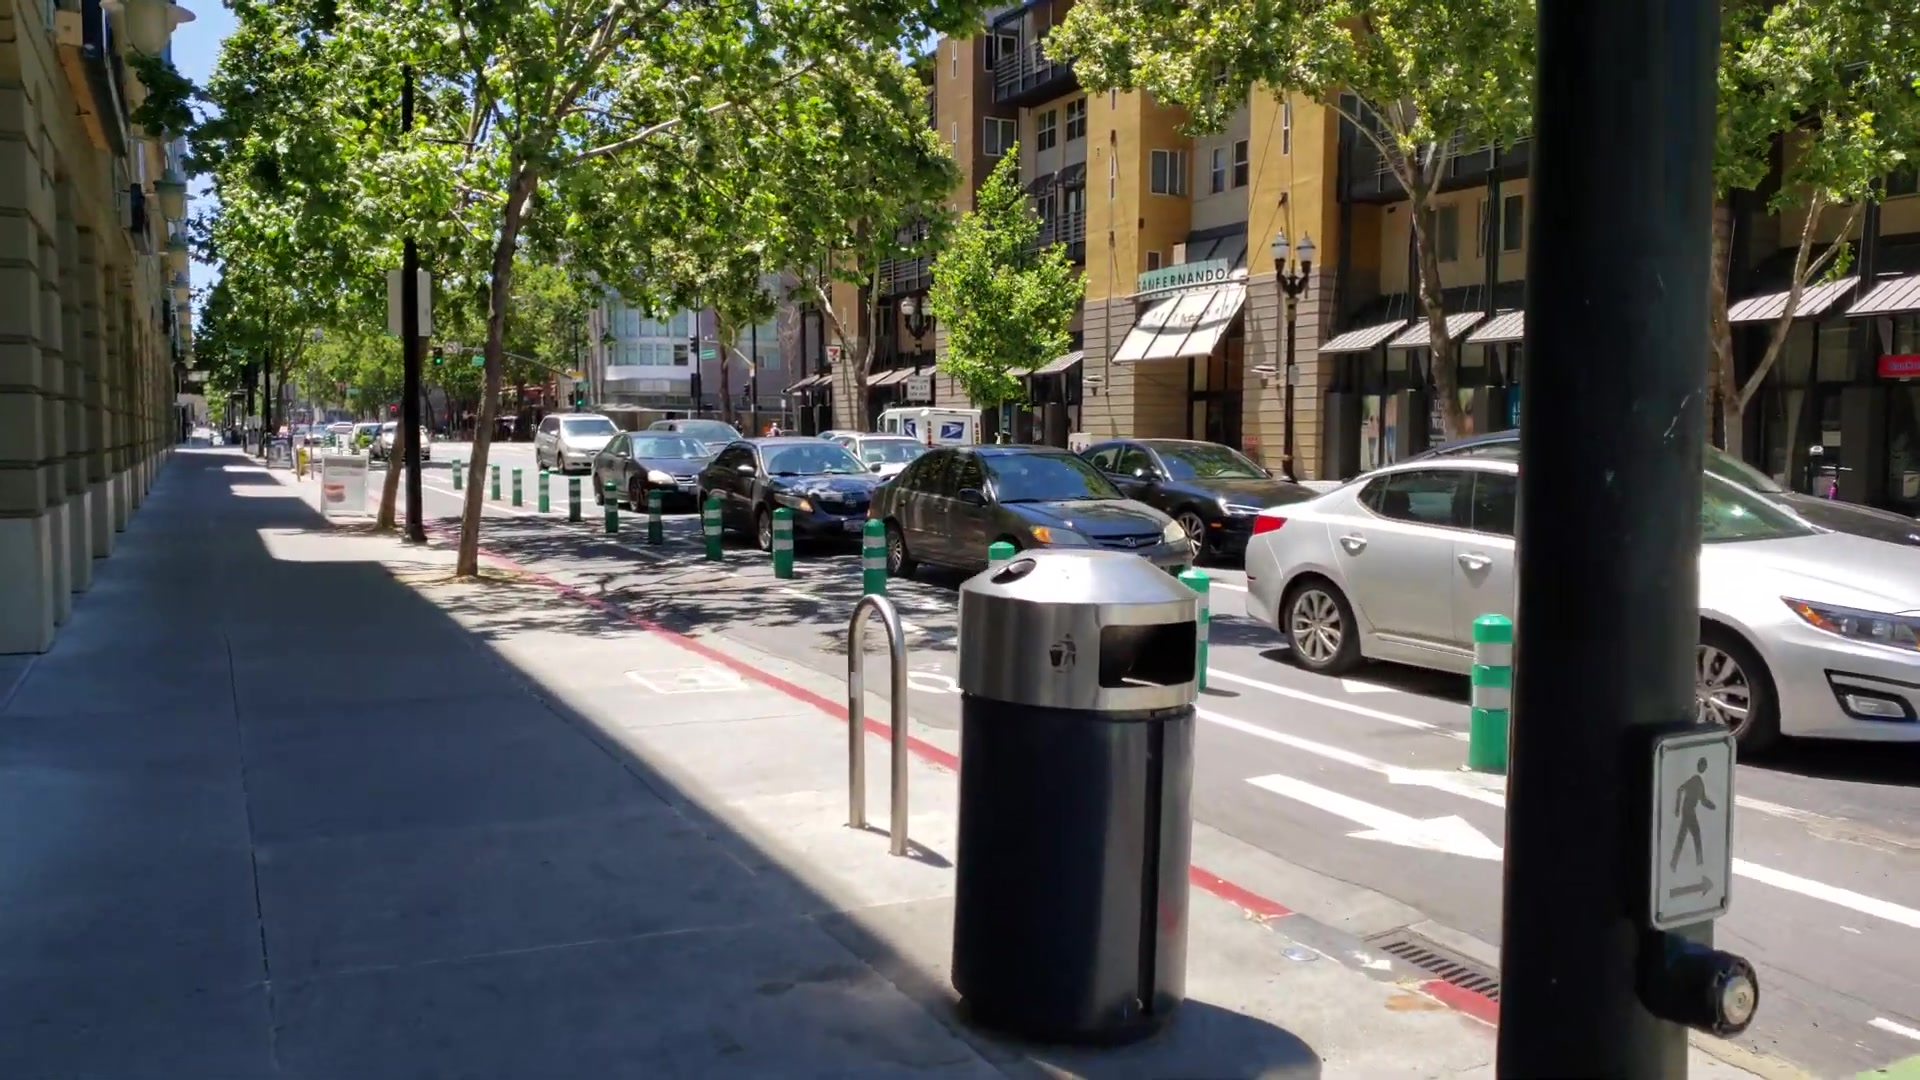vehicle: (1246, 456, 1920, 752), (698, 440, 873, 545), (596, 433, 717, 516)
